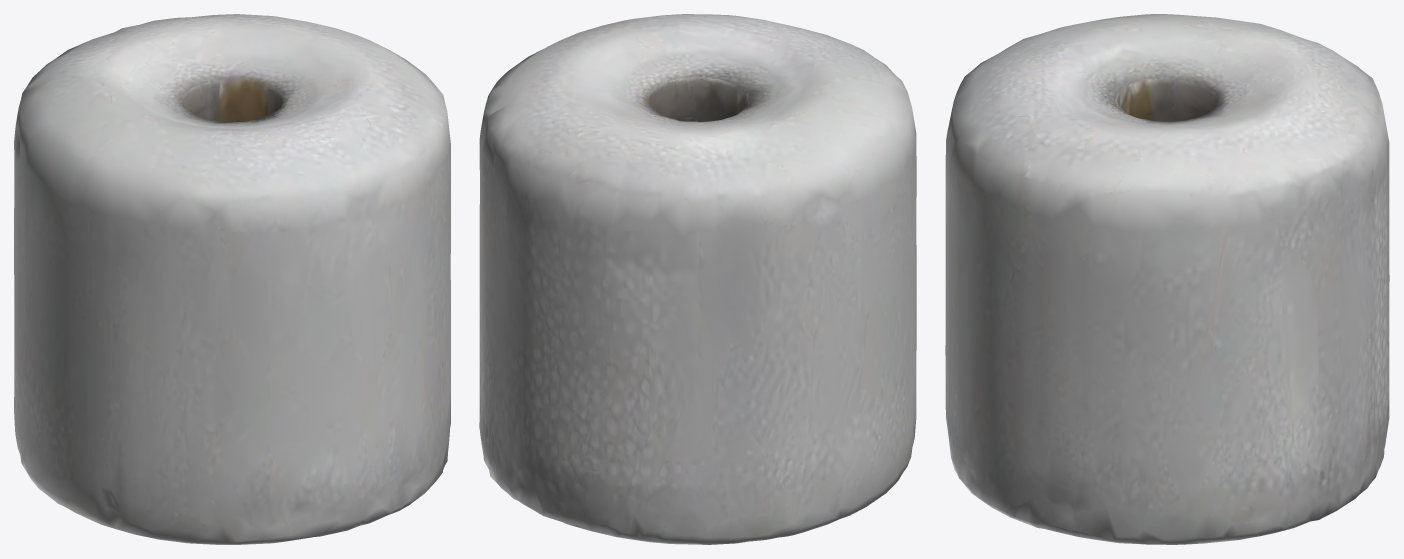
Rendered from bubble_wrap.glb.
3 views of the same model, side by side, from view 1: azimuth 30°, elevation 25°; view 2: azimuth 150°, elevation 25°; view 3: azimuth 270°, elevation 25° (orthographic).
Parts seen in each view (by area): view 1: Meshy_Mesh_0.002; view 2: Meshy_Mesh_0.002; view 3: Meshy_Mesh_0.002.
Boxes of the visible parts, <box> form: Meshy_Mesh_0.002: <box>14,14,450,544</box>; Meshy_Mesh_0.002: <box>479,14,916,544</box>; Meshy_Mesh_0.002: <box>945,14,1389,544</box>.
Bounding box in the file's own units: 0.3225 × 0.3225 × 0.3292.
Materials: 1 (1 with a texture image).
